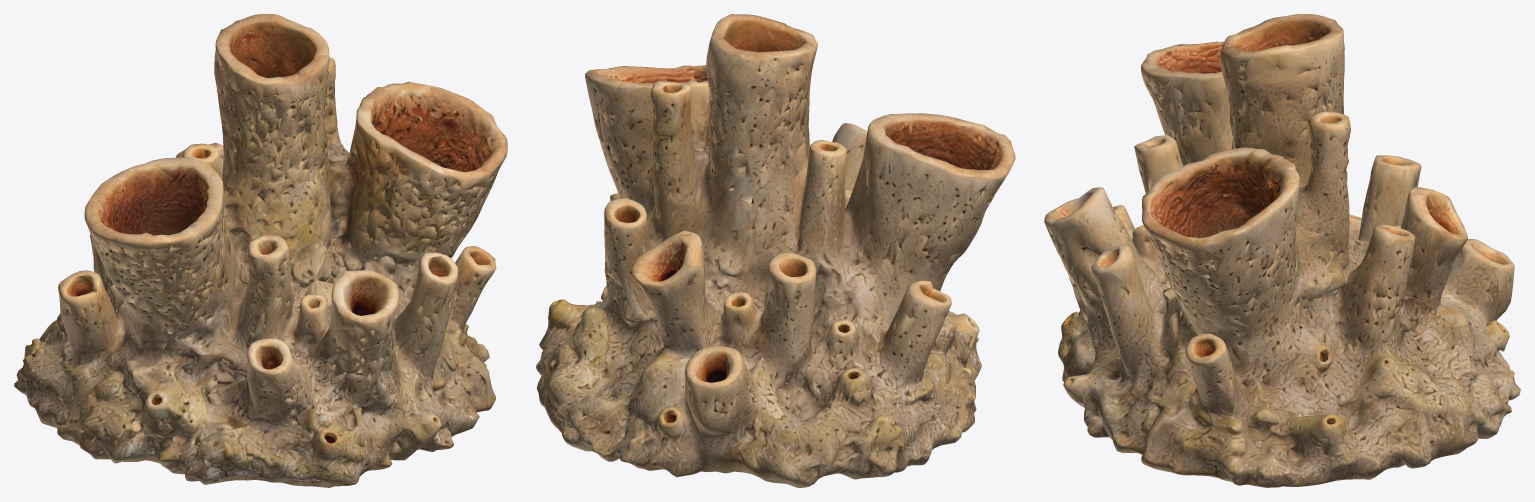
File: coral-tube.glb
3 views of the same model, side by side, from view 1: azimuth 30°, elevation 25°; view 2: azimuth 150°, elevation 25°; view 3: azimuth 270°, elevation 25° (orthographic).
Parts seen in each view (by area): view 1: model; view 2: model; view 3: model.
Part boxes in pixels (x1=…): model: x1=14, y1=14, x2=507, y2=487; model: x1=536, y1=14, x2=1015, y2=487; model: x1=1044, y1=14, x2=1520, y2=487.
Bounding box in the file's own units: 1.91 × 1.65 × 1.9.
1 material, 1 textured.
